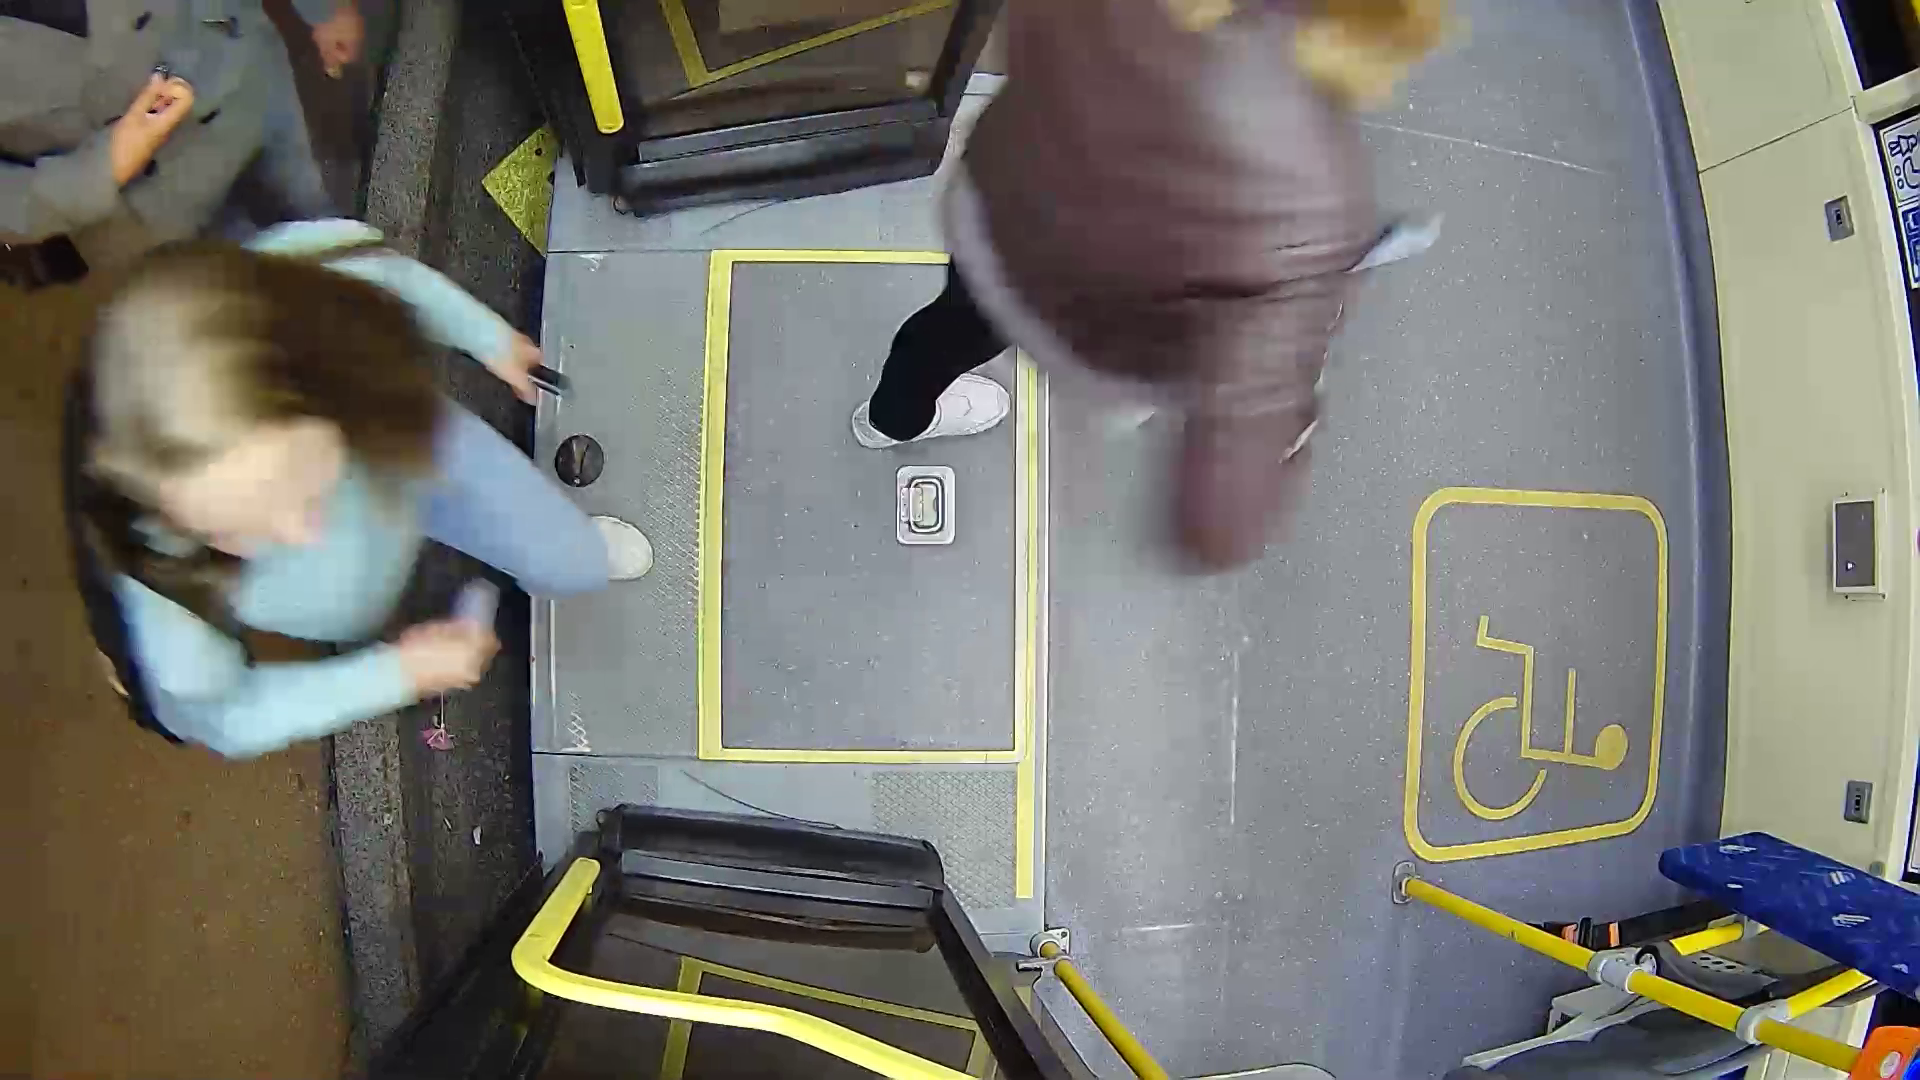person: (97, 215, 641, 747), (936, 3, 1423, 461)
